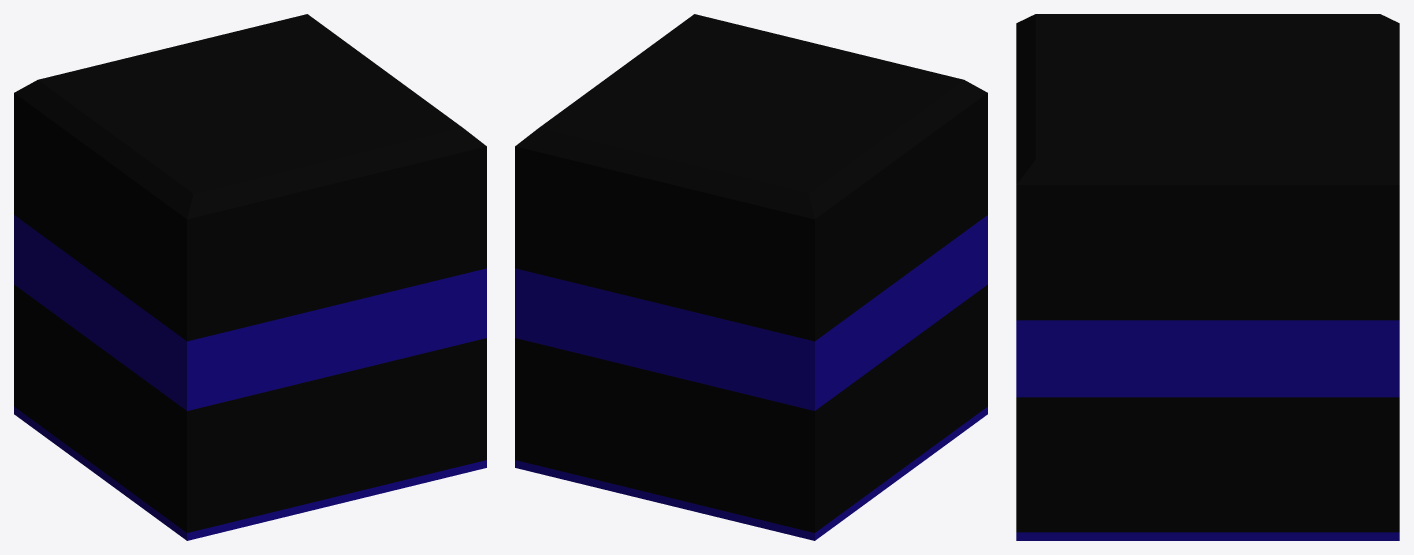
3 views of the same model, side by side, from view 1: azimuth 30°, elevation 25°; view 2: azimuth 150°, elevation 25°; view 3: azimuth 270°, elevation 25° (orthographic). The views are drawn at different scales.
Visible parts, largest first — view 1: Cube; view 2: Cube; view 3: Cube.
Boxes of the visible parts, box(x1,y1,x2,y2) form: Cube: box(14, 14, 486, 540); Cube: box(515, 14, 987, 540); Cube: box(1016, 14, 1399, 540).
Size of the model in its own units: 200 by 215 by 200.
